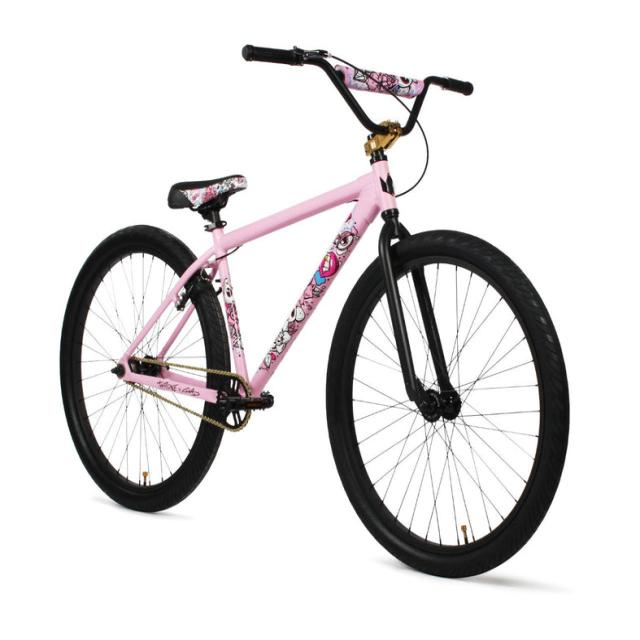mountain-bike: (58, 42, 573, 582)
